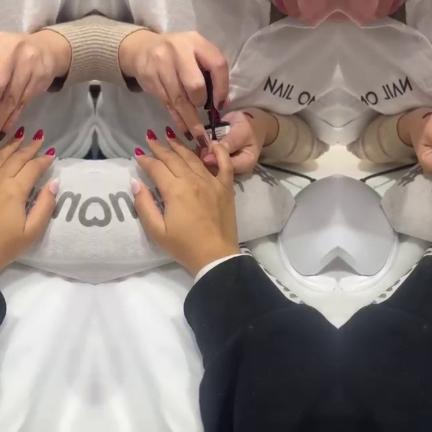Nail: (129, 178, 140, 194), (48, 178, 59, 194), (196, 135, 208, 148), (165, 126, 175, 139), (13, 126, 23, 139), (146, 129, 156, 141), (32, 129, 42, 141), (183, 131, 193, 141), (217, 100, 224, 113), (134, 147, 144, 155), (44, 147, 54, 155), (0, 131, 5, 140)
